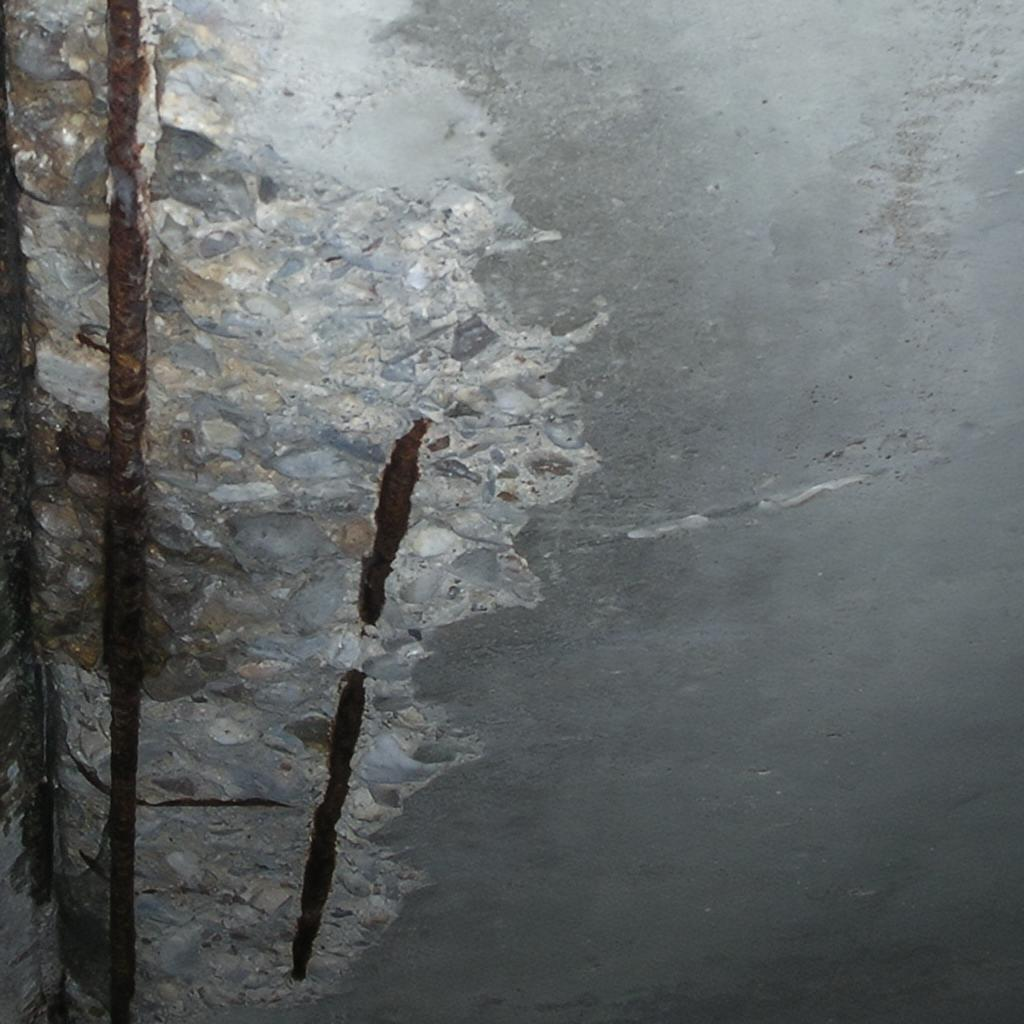exposed_rebar: (104, 0, 150, 1023), (292, 668, 366, 979), (358, 418, 430, 626), (136, 798, 288, 808)
spalling: (4, 0, 596, 1024)
